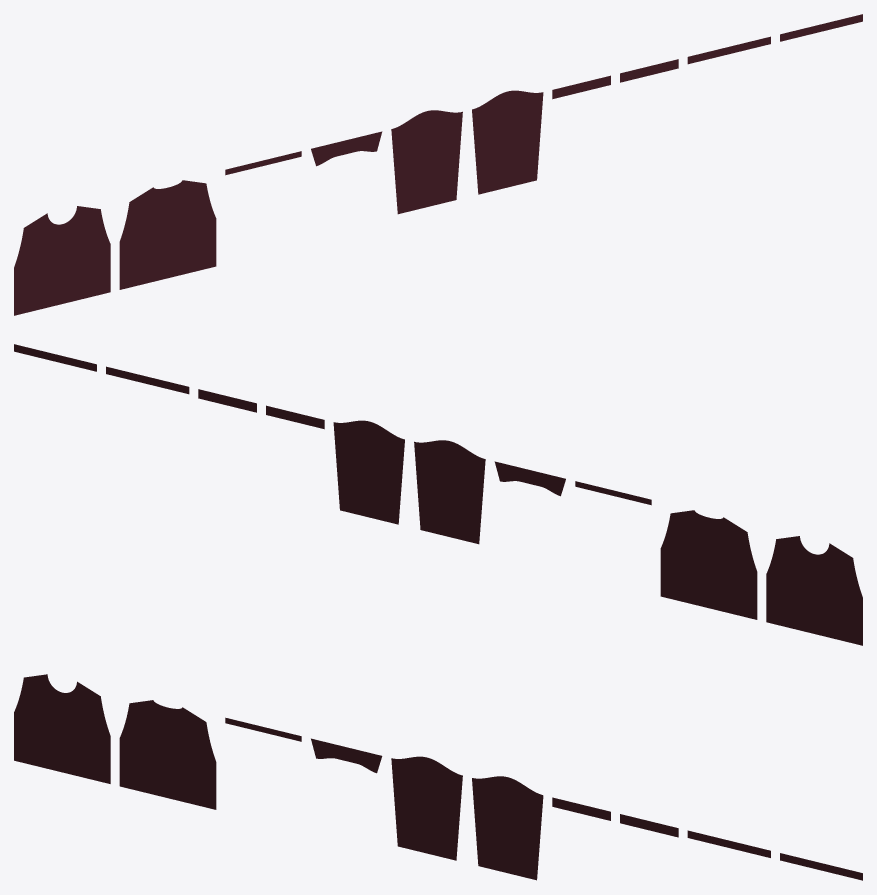
Rendered from chaqueta-cuero-sintetico-vino-talla-S.glb.
3 renders of one model, top to bottom at view 1: azimuth 30°, elevation 25°; view 2: azimuth 150°, elevation 25°; view 3: azimuth 330°, elevation 25°, orthographic.
Visible parts, largest first — view 1: patron-espalda, patron-delantero, patron-manga-der, patron-manga-izq, patron-cuello-hoja, patron-banda-delantera, patron-banda-trasera, patron-puno-der, patron-puno-izq; view 2: patron-espalda, patron-delantero, patron-manga-der, patron-manga-izq, patron-cuello-hoja, patron-banda-delantera, patron-banda-trasera, patron-puno-der, patron-puno-izq; view 3: patron-espalda, patron-delantero, patron-manga-der, patron-manga-izq, patron-cuello-hoja, patron-banda-delantera, patron-banda-trasera, patron-puno-izq, patron-puno-der, patron-cuello-pie.
Boxes of the visible parts, box(x1,y1,x2,y2) form: patron-espalda: box(119, 180, 216, 289); patron-delantero: box(14, 206, 110, 315); patron-manga-der: box(472, 90, 543, 194); patron-manga-izq: box(391, 110, 462, 214); patron-cuello-hoja: box(311, 131, 382, 166); patron-banda-delantera: box(687, 36, 770, 64); patron-banda-trasera: box(780, 14, 862, 41); patron-puno-der: box(620, 59, 678, 82); patron-puno-izq: box(552, 75, 610, 99); patron-espalda: box(660, 510, 757, 619); patron-delantero: box(766, 536, 862, 645); patron-manga-der: box(333, 420, 404, 524); patron-manga-izq: box(414, 440, 485, 544); patron-cuello-hoja: box(494, 461, 565, 496); patron-banda-delantera: box(106, 366, 189, 394); patron-banda-trasera: box(14, 344, 96, 371); patron-puno-der: box(198, 389, 256, 412); patron-puno-izq: box(266, 405, 324, 429); patron-espalda: box(119, 700, 216, 809); patron-delantero: box(14, 674, 110, 783); patron-manga-der: box(472, 776, 543, 880); patron-manga-izq: box(391, 756, 462, 860); patron-cuello-hoja: box(311, 738, 382, 773); patron-banda-delantera: box(687, 830, 770, 857); patron-banda-trasera: box(780, 853, 862, 880); patron-puno-izq: box(552, 797, 610, 820); patron-puno-der: box(620, 814, 678, 837); patron-cuello-pie: box(225, 717, 301, 741).
Size of the model in its own units: 4.74 by 0.555 by 0.
